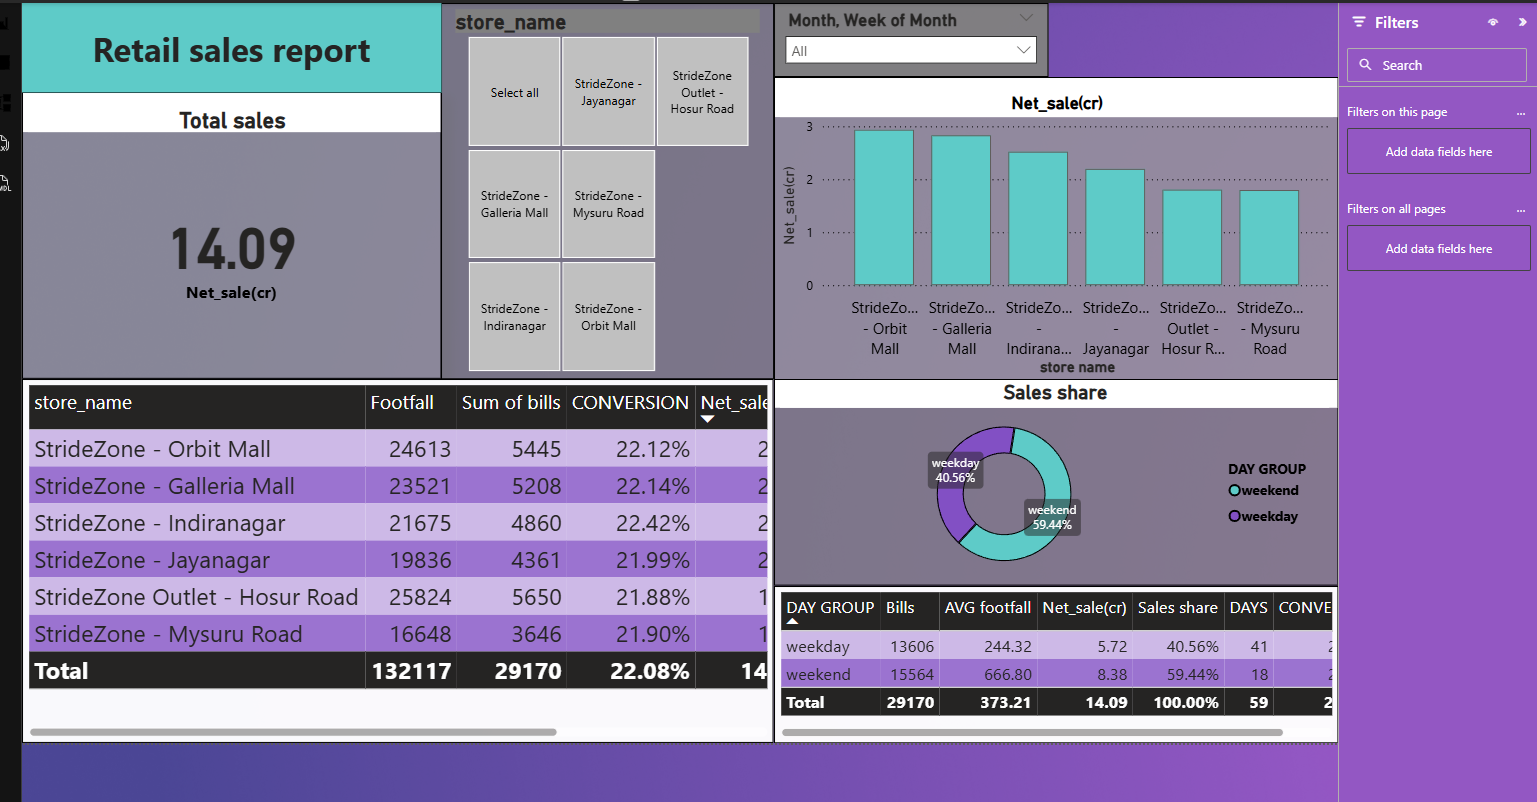

Layout of this report page (visuals, bound fields, positions):
{"tool":"powerbi","page":{"name":"Sale overview","canvas":[1280,720],"ordinal":0},"visuals":[{"type":"card","title":"Total sales","fields":{"Values":["retail daily_footfall.Net_sale(cr)"]},"box":[0,86.6,407.5,279.1],"z":0},{"type":"slicer","fields":{"Values":["retail daily_footfall.Month","retail daily_footfall.Week of Month"]},"box":[731.4,0,266.5,72],"z":1000},{"type":"slicer","fields":{"Values":["retail stores.store_name"]},"box":[407.5,0,323.9,365.7],"z":2000},{"type":"tableEx","fields":{"Values":["retail stores.store_name","retail customers_details.Footfall","Sum(retail daily_footfall.bills)","retail customers_details.CONVERSION","retail daily_footfall.Net_sale(cr)","retail customers_details.Sales Rank","retail daily_footfall.store sales_share"]},"box":[0,366,731,354],"z":3000},{"type":"tableEx","fields":{"Values":["retail daily_footfall.DAY GROUP","retail customers_details.Bills","retail customers_details.AVG footfall","retail daily_footfall.Net_sale(cr)","retail customers_details.Sales share","retail customers_details.DAYS","retail customers_details.CONVERSION"]},"box":[731.4,567.1,548.6,152.7],"z":4000},{"type":"columnChart","title":"Net_sale(cr)","fields":{"Category":["retail stores.store_name"],"Y":["retail daily_footfall.Net_sale(cr)"]},"box":[731.4,72,548.6,301.5],"z":5000},{"type":"donutChart","title":"Sales share ","fields":{"Category":["retail daily_footfall.DAY GROUP"],"Y":["retail customers_details.Sales share"]},"box":[731.4,365.7,548.6,201.3],"z":5001},{"type":"textbox","box":[0,0,407.5,86.6],"z":5002}]}

Visuals, with their boxes on the page's 1280x720 design canvas (x1, y1, x2, y2). These are canvas units, not pixel positions in the 1537x802 screenshot, which may show the page scaled, cropped or inside an application window:
"Total sales" card: crop(0, 87, 408, 366)
slicer - retail daily_footfall.Month x retail daily_footfall.Week of Month: crop(731, 0, 998, 72)
slicer - retail stores.store_name: crop(408, 0, 731, 366)
tableEx - retail stores.store_name x retail customers_details.Footfall: crop(0, 366, 731, 720)
tableEx - retail daily_footfall.DAY GROUP x retail customers_details.Bills: crop(731, 567, 1280, 720)
"Net_sale(cr)" columnChart: crop(731, 72, 1280, 374)
"Sales share " donutChart: crop(731, 366, 1280, 567)
textbox: crop(0, 0, 408, 87)
